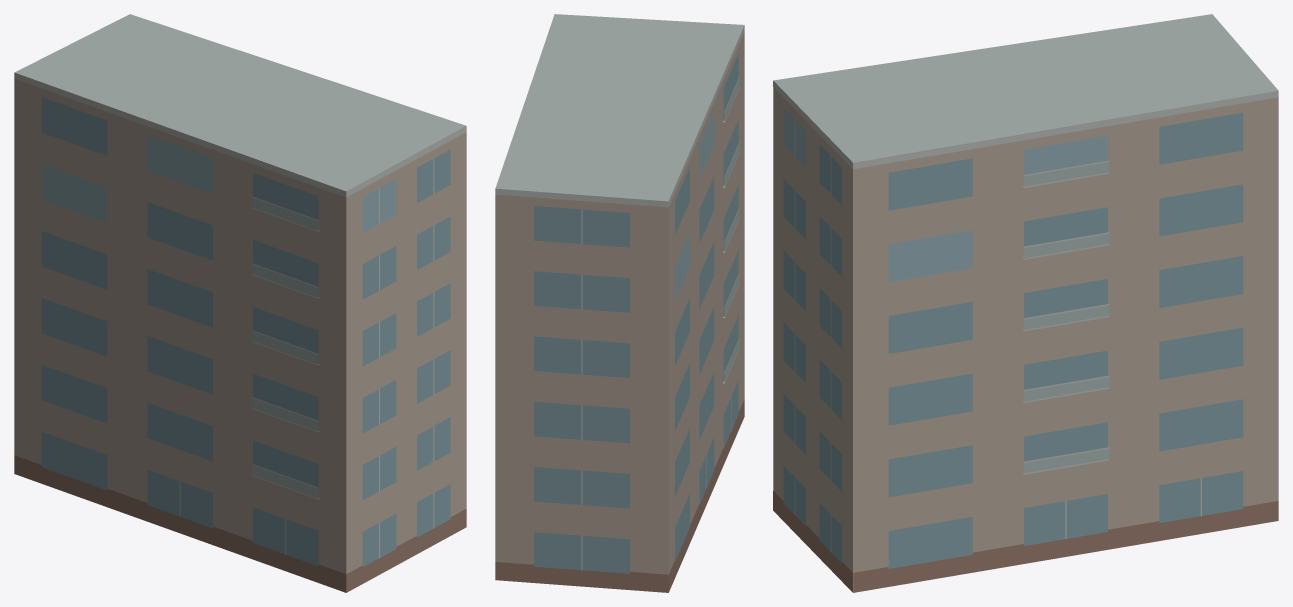
Rendered from survey-upis-32881902.glb.
3 views of the same model, side by side, from view 1: azimuth 30°, elevation 25°; view 2: azimuth 150°, elevation 25°; view 3: azimuth 270°, elevation 25° (orthographic). The views are drawn at different scales.
Parts seen in each view (by area): view 1: survey-upis-32881902.tmp; view 2: survey-upis-32881902.tmp; view 3: survey-upis-32881902.tmp.
Boxes of the visible parts, <box> form: survey-upis-32881902.tmp: <box>14,14,466,592</box>; survey-upis-32881902.tmp: <box>495,14,744,592</box>; survey-upis-32881902.tmp: <box>773,14,1278,592</box>.
Size of the model in its own units: 11.84 by 15.95 by 17.
